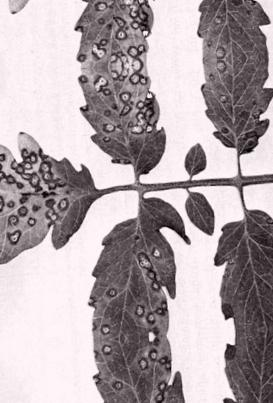Tomato Septoria leaf spot: (69, 195, 194, 342), (0, 124, 101, 267), (76, 63, 169, 183), (207, 202, 273, 333), (192, 54, 273, 155)
